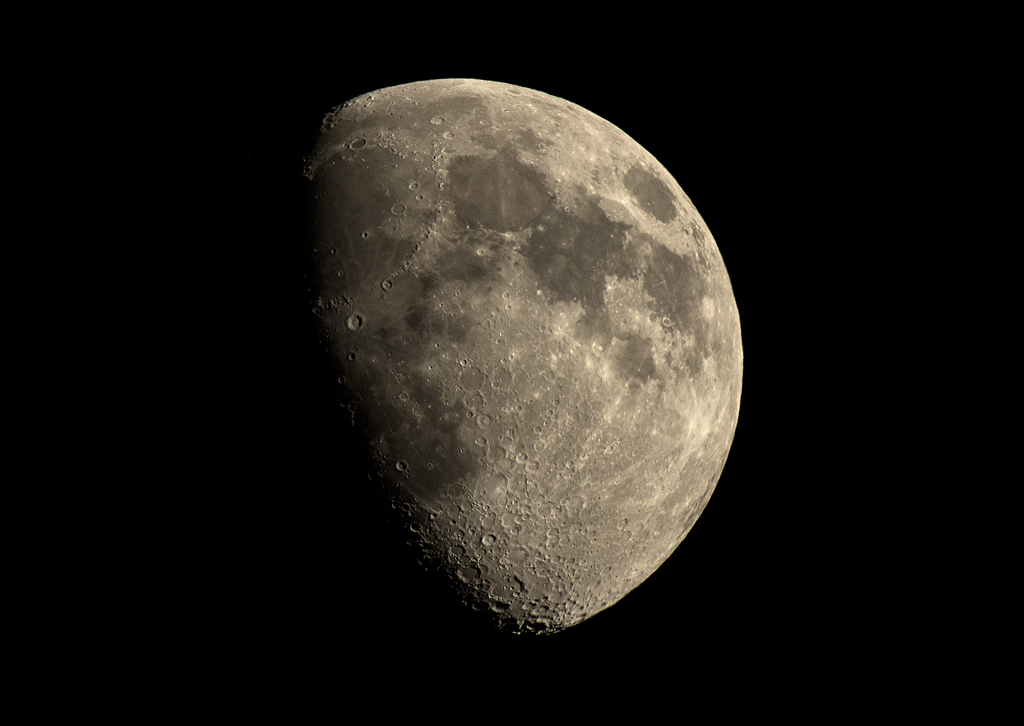crater: (331, 302, 376, 338), (346, 212, 376, 250), (374, 271, 401, 303), (341, 129, 372, 154), (392, 450, 416, 480), (474, 528, 503, 551), (425, 109, 450, 132), (385, 198, 410, 220), (475, 114, 500, 134)
